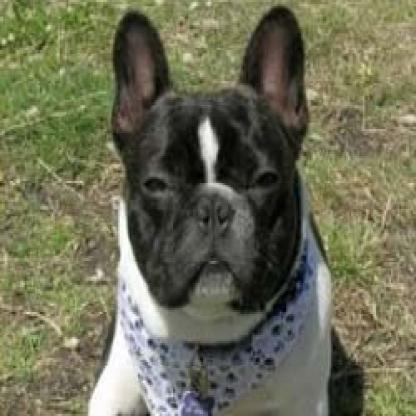French_bulldog: (78, 2, 336, 412)
